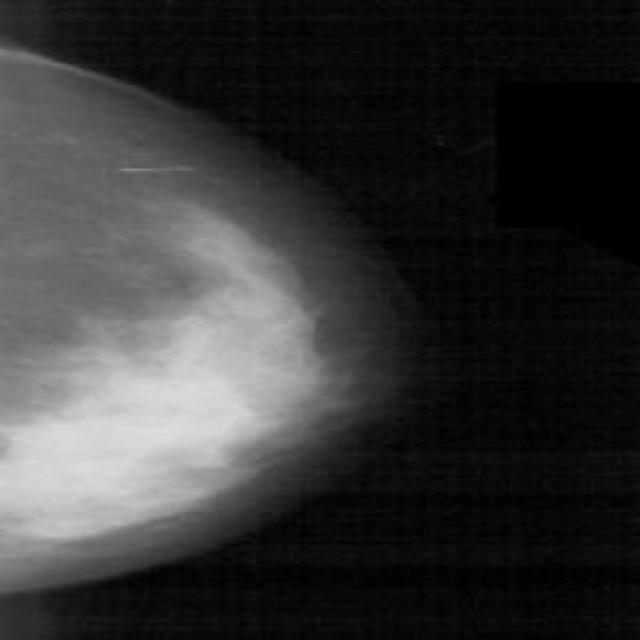tumor: (13, 298, 280, 520)
